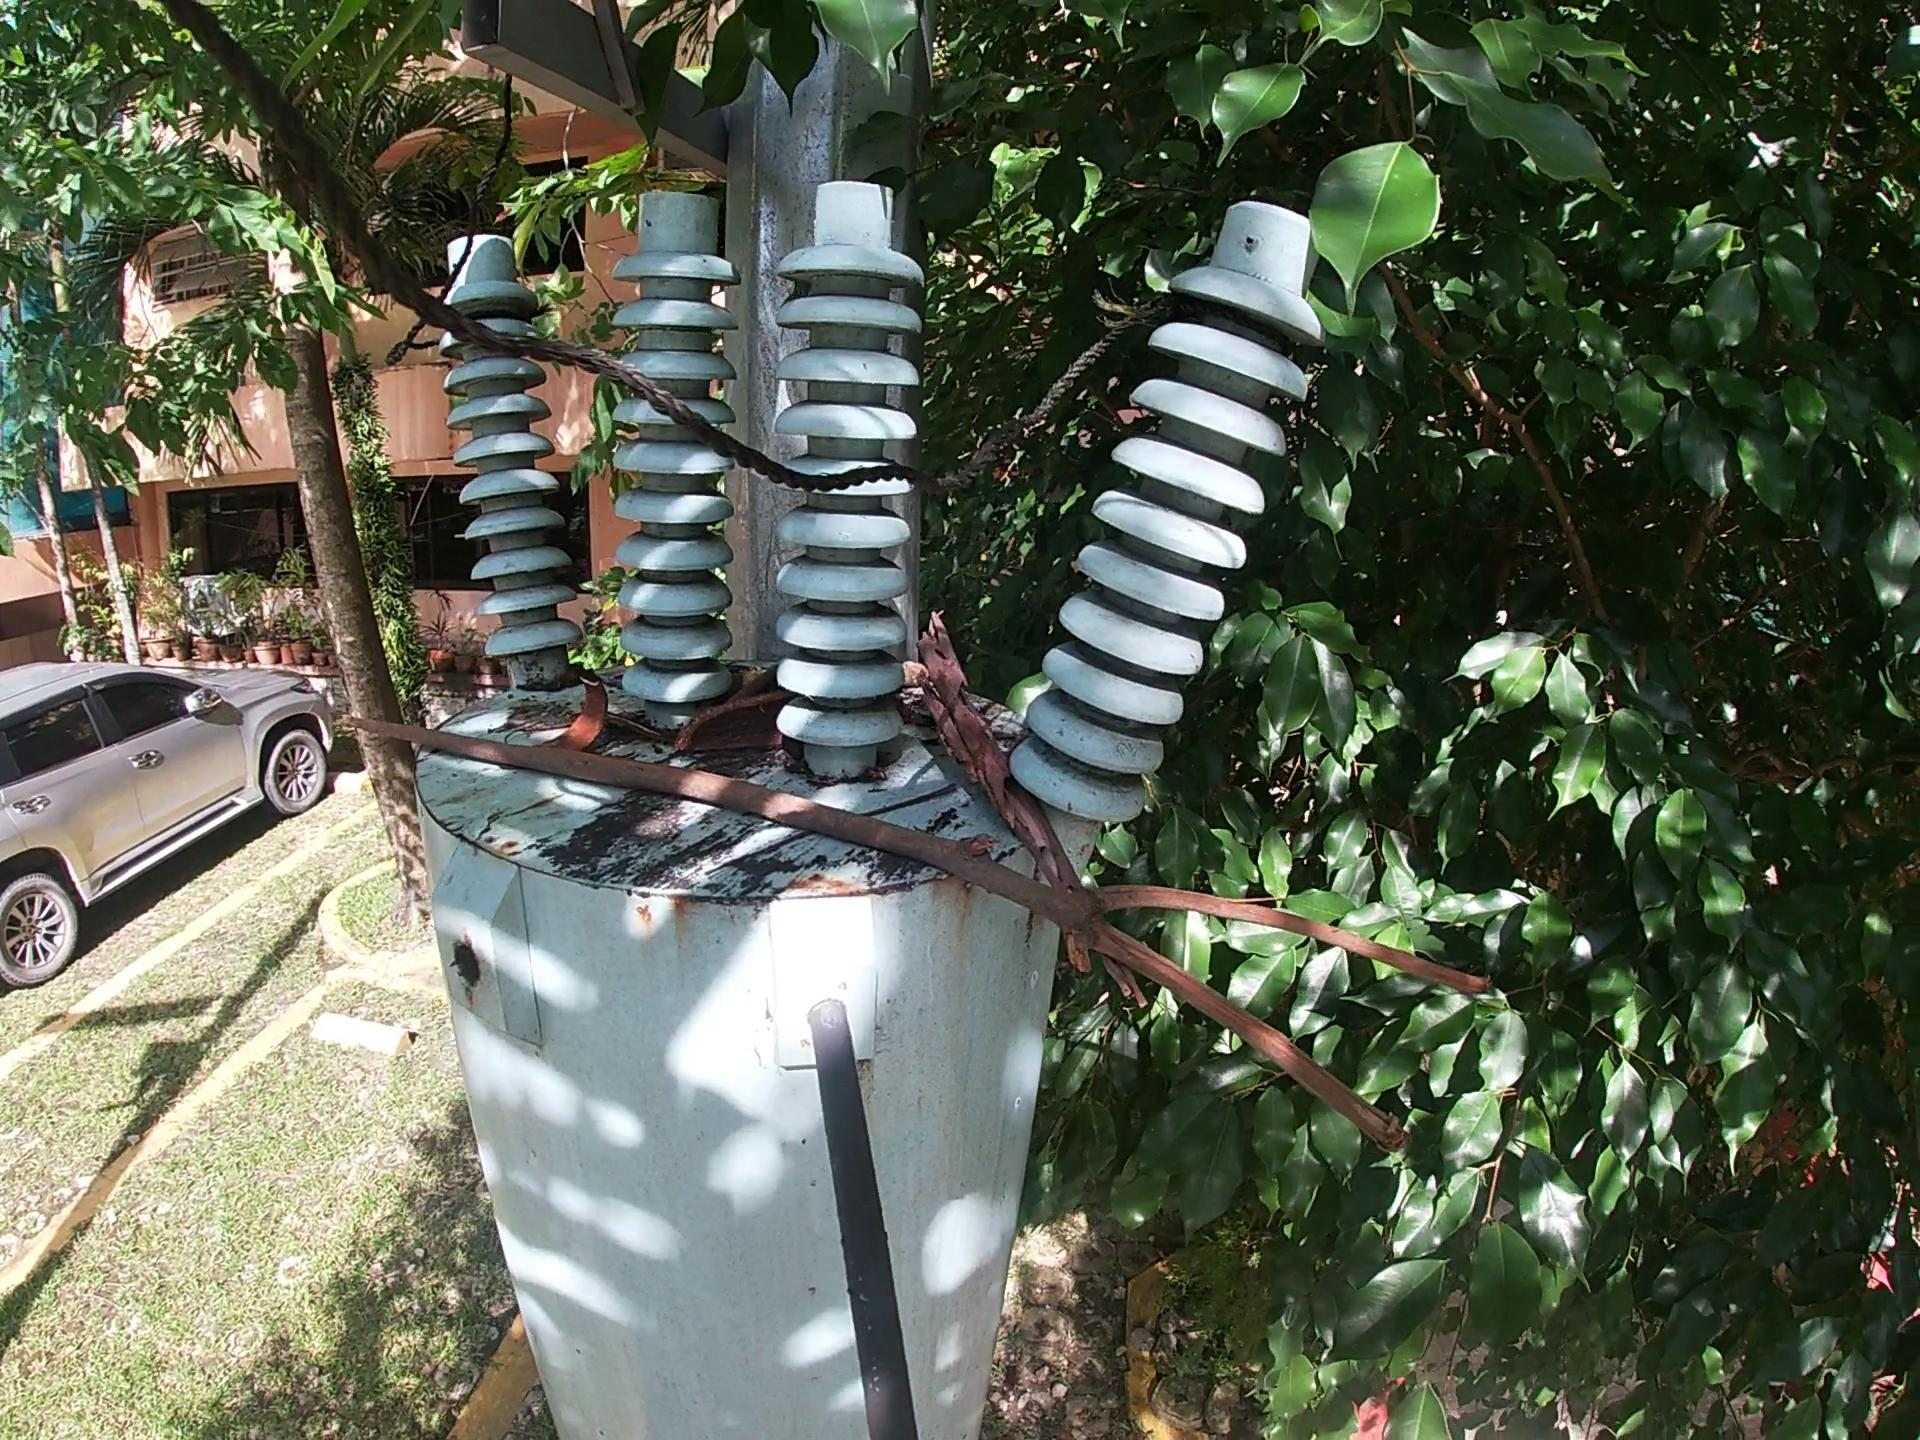mahogany fruit: (674, 691, 806, 759), (535, 678, 615, 759)
tree branch: (333, 703, 1503, 1162), (913, 608, 1154, 1026)
